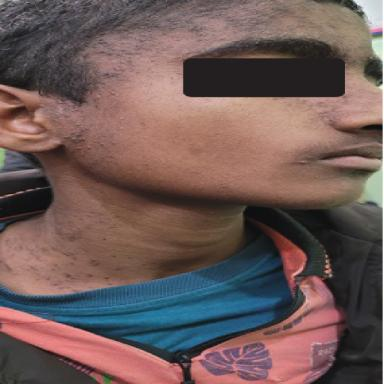Darier_s-Disease: (37, 0, 373, 152)
